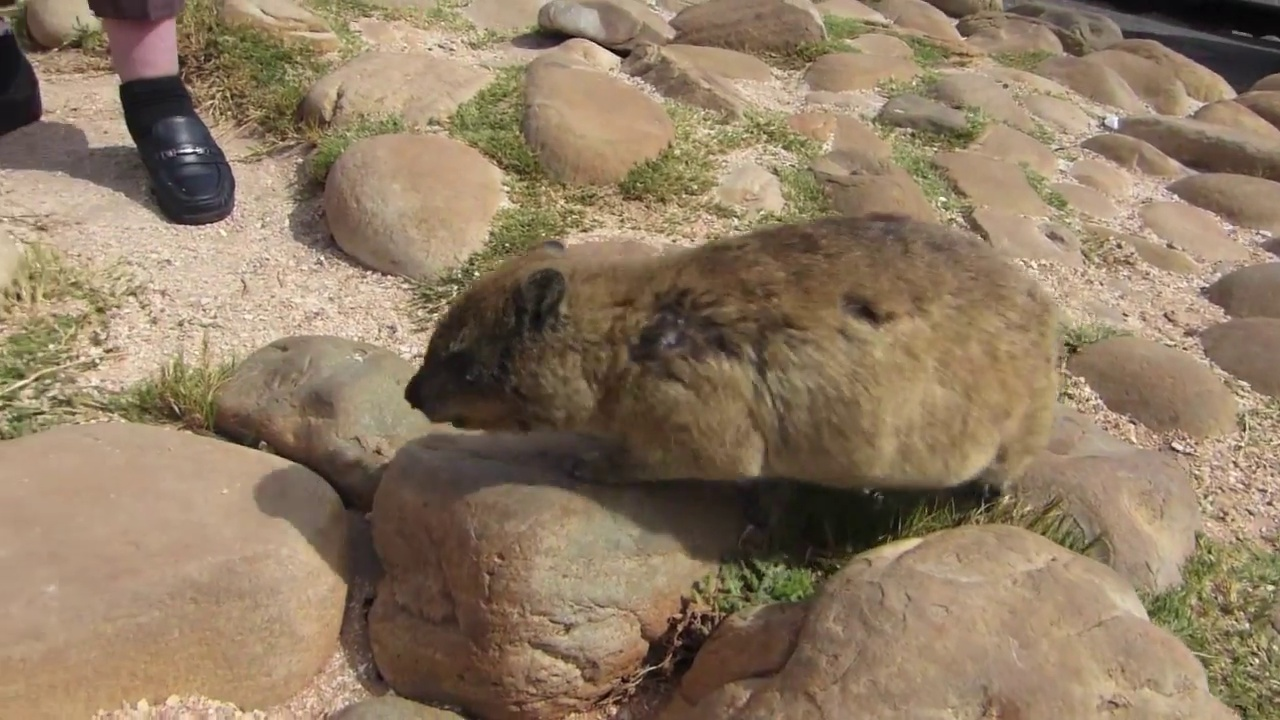Rock Hyrex: (400, 208, 1053, 503)
